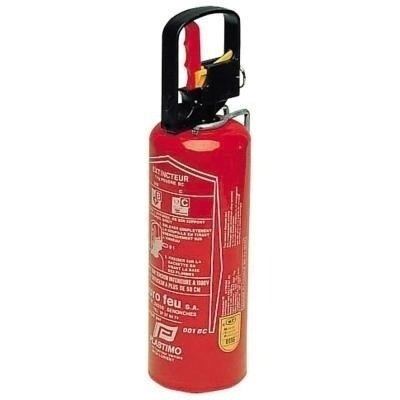fire_extinguisher: (147, 5, 252, 394)
